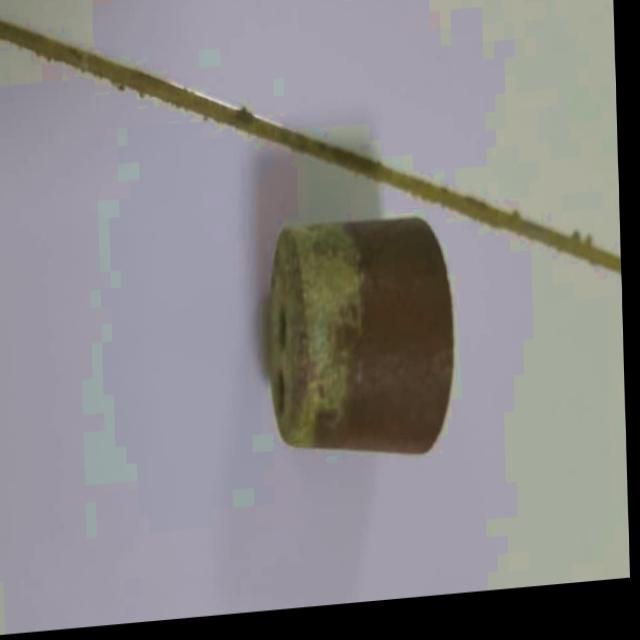Stopper: (260, 205, 460, 471)
